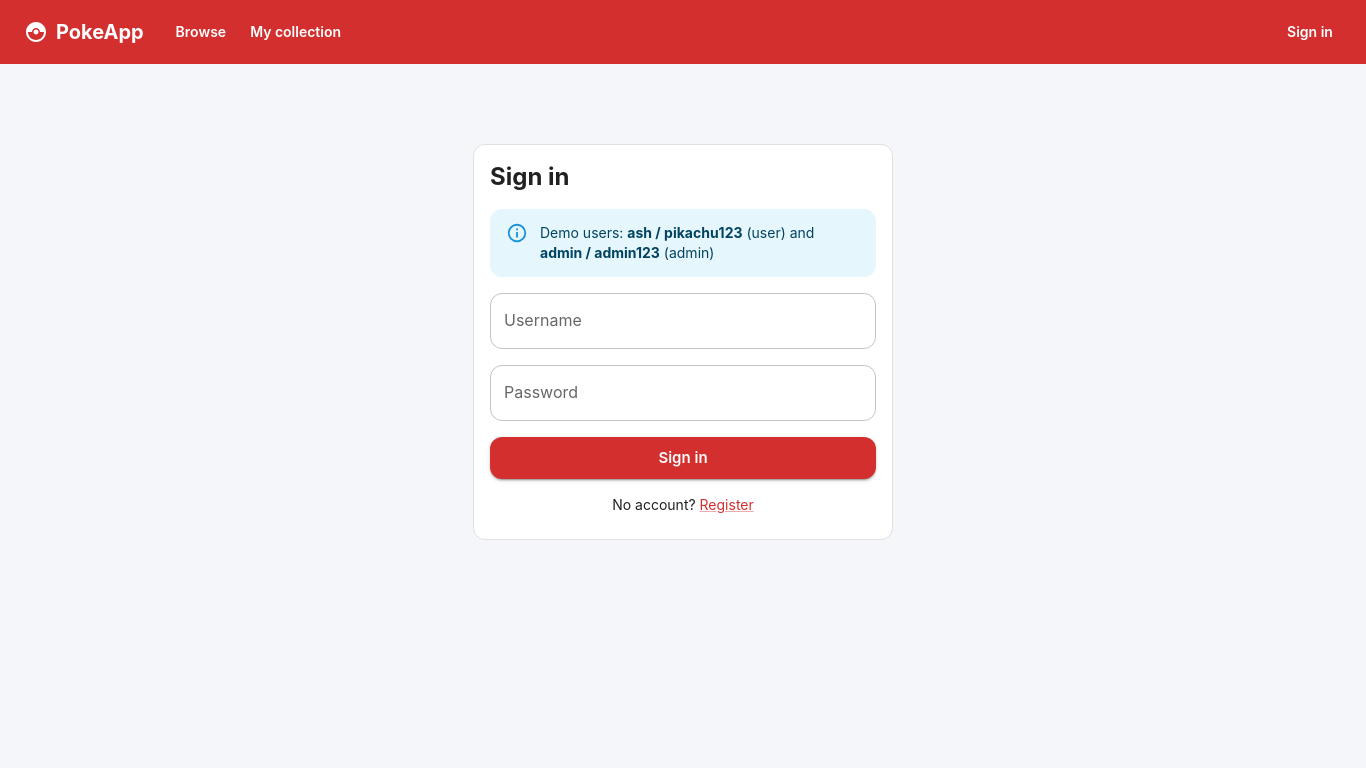
Test: Authentication › shows the server message for invalid credentials
In the field labelled "Username": coordinates (683, 321) [490,293,876,349], type "ash"
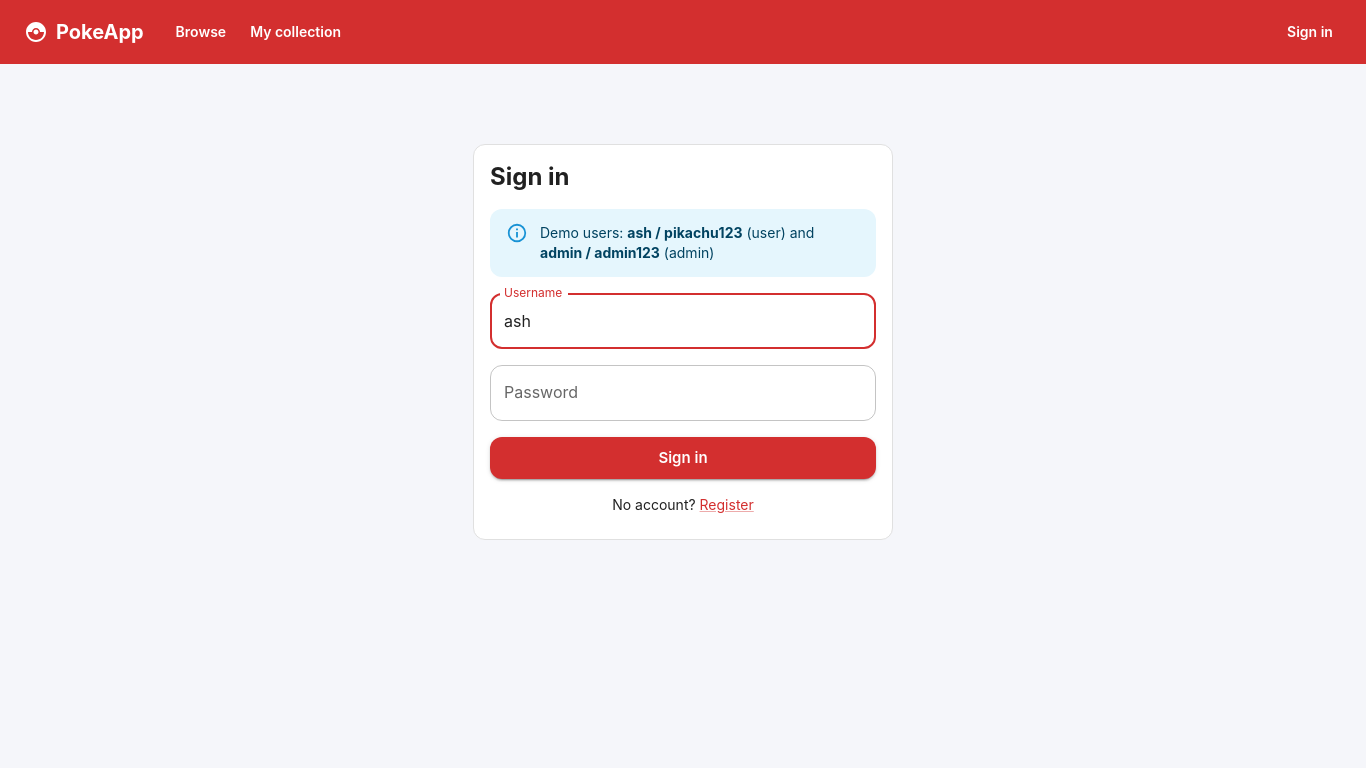
In the password field labelled "Password": coordinates (683, 393) [490,365,876,421], type "wrong"
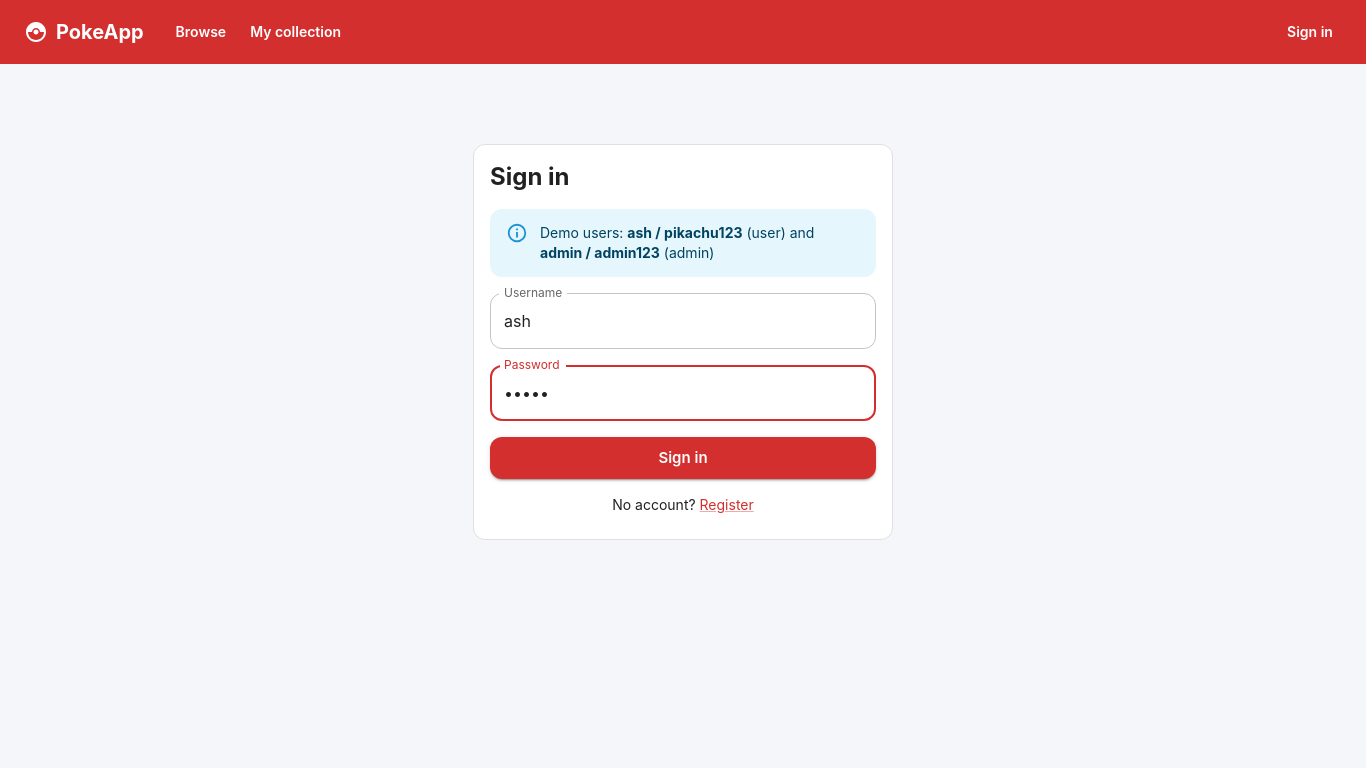
Click the button "Sign in": coordinates (683, 458) [490,437,876,479]
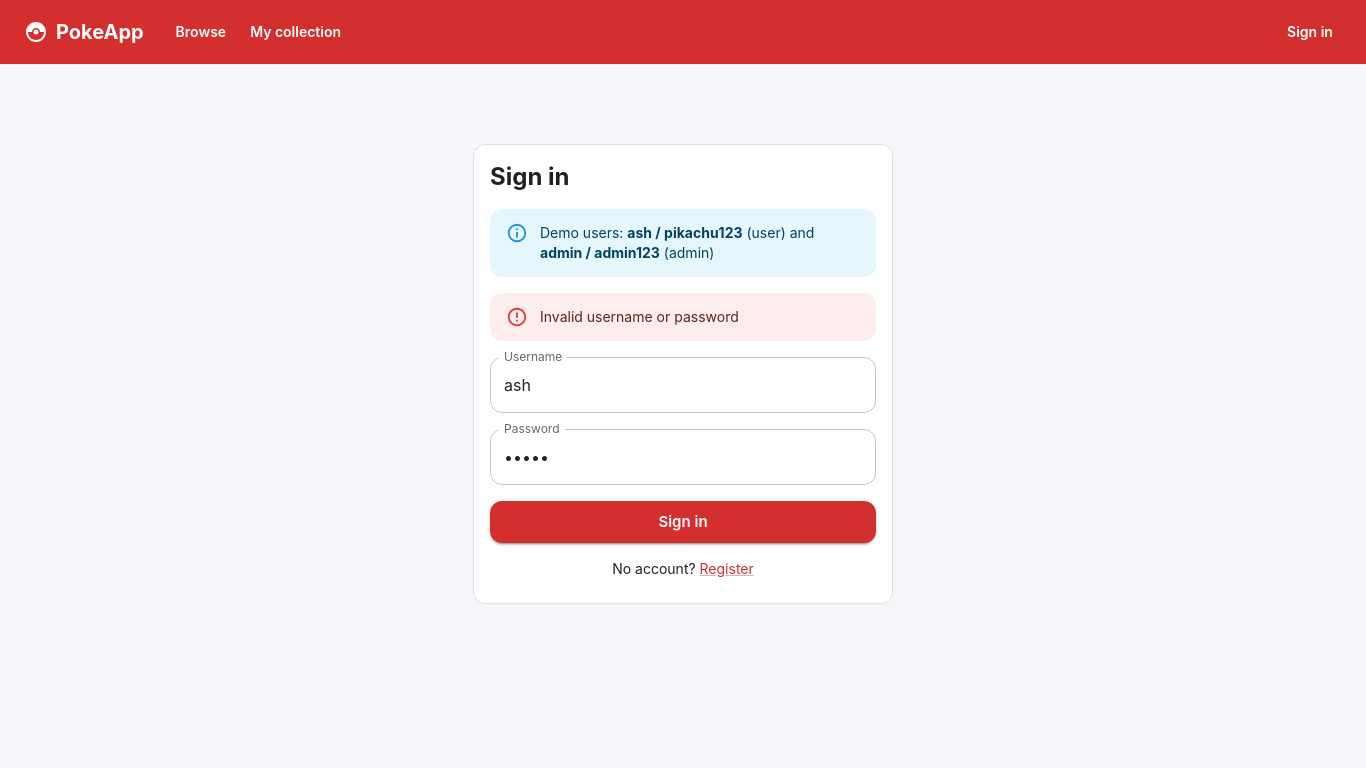
Expected: the text "Invalid username or password" is shown, [540,308,739,325]
